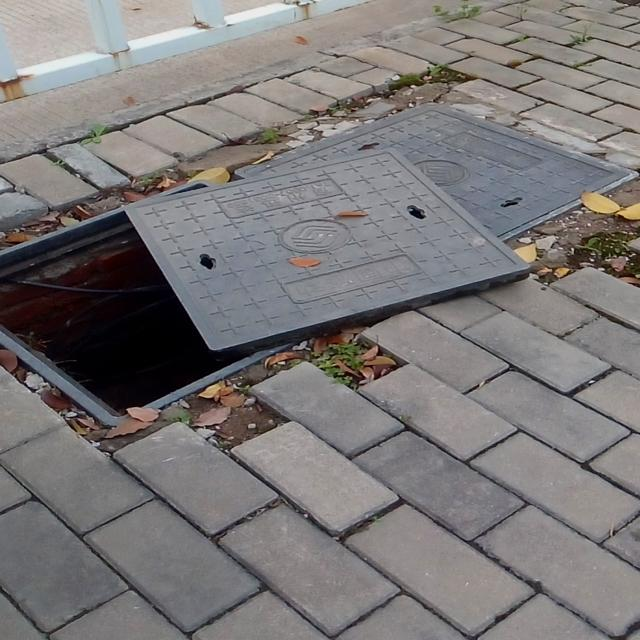uncovered: (0, 103, 637, 423)
